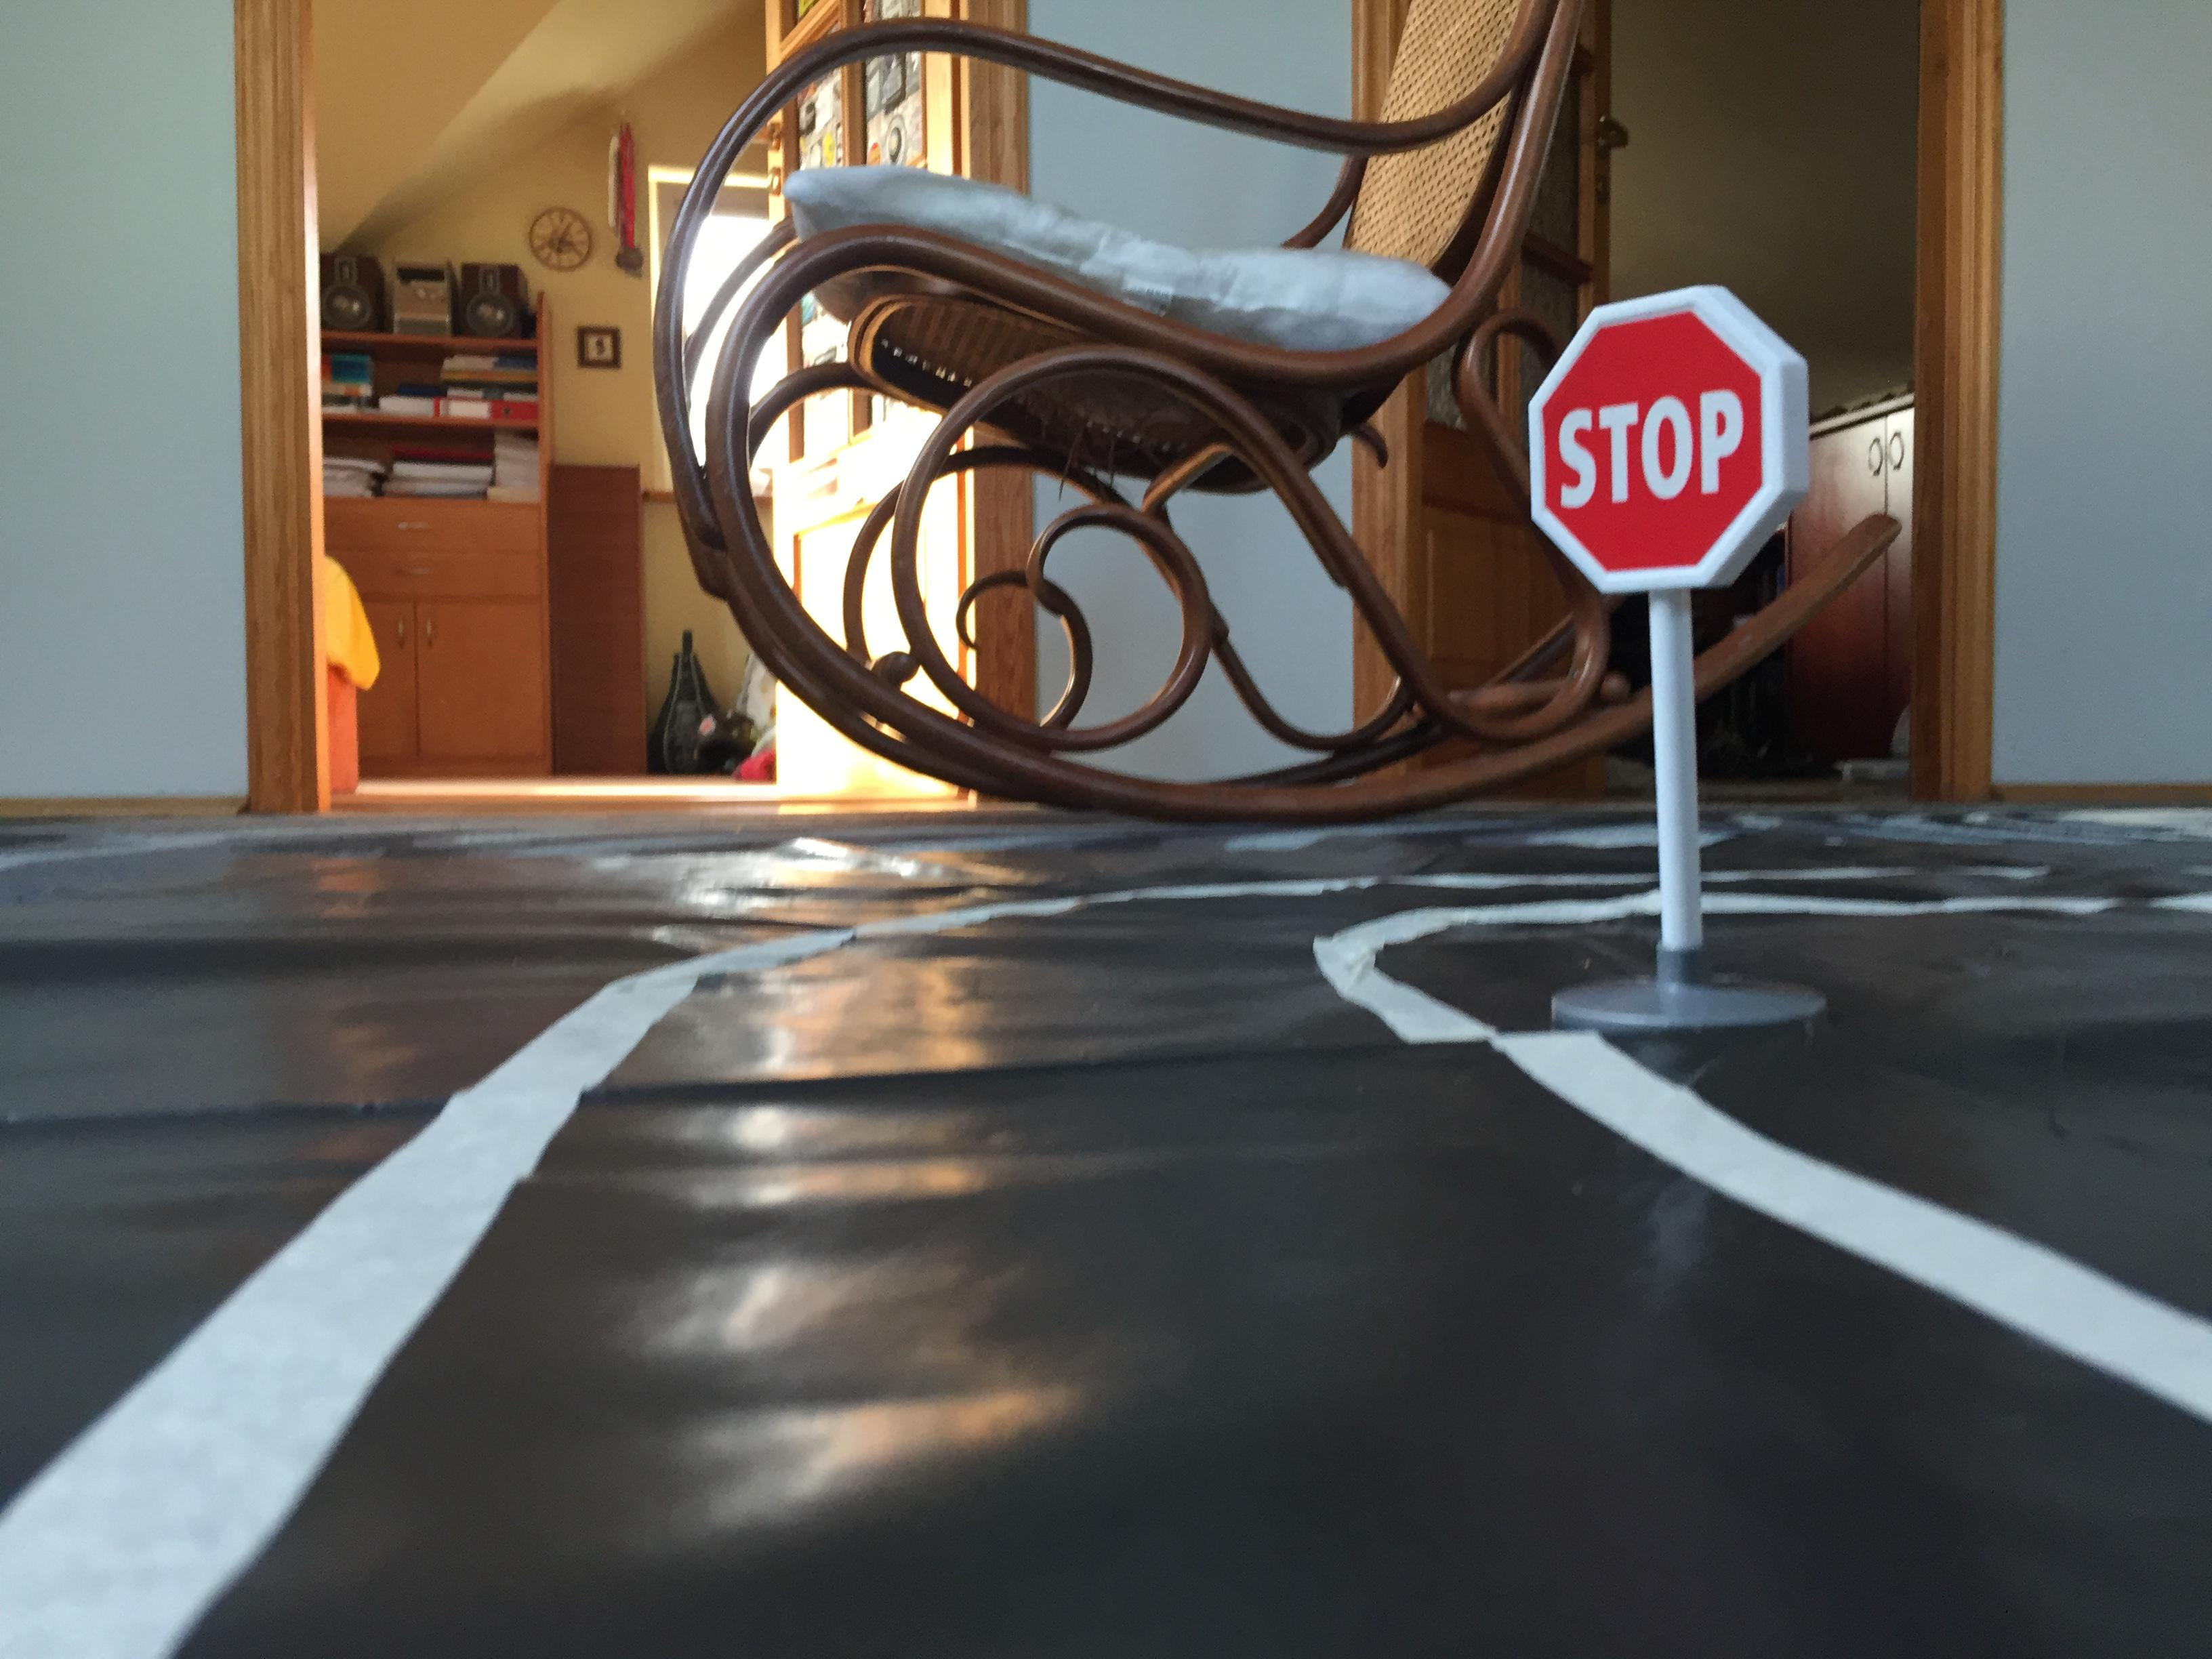stop: (1512, 272, 1827, 608)
